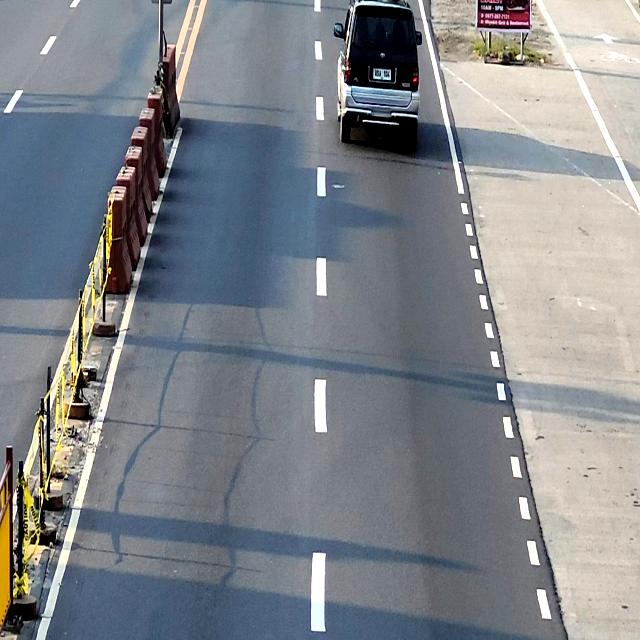Car: (334, 0, 422, 147)
License-Plate: (373, 69, 391, 80)
